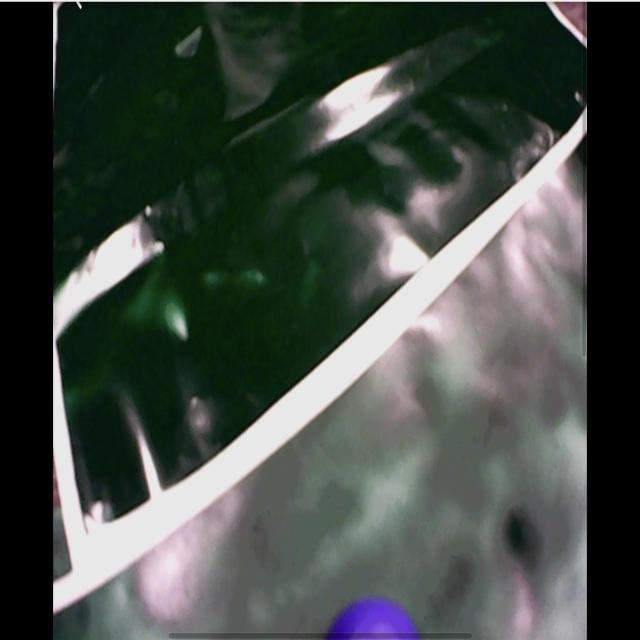ball: (322, 600, 423, 637)
